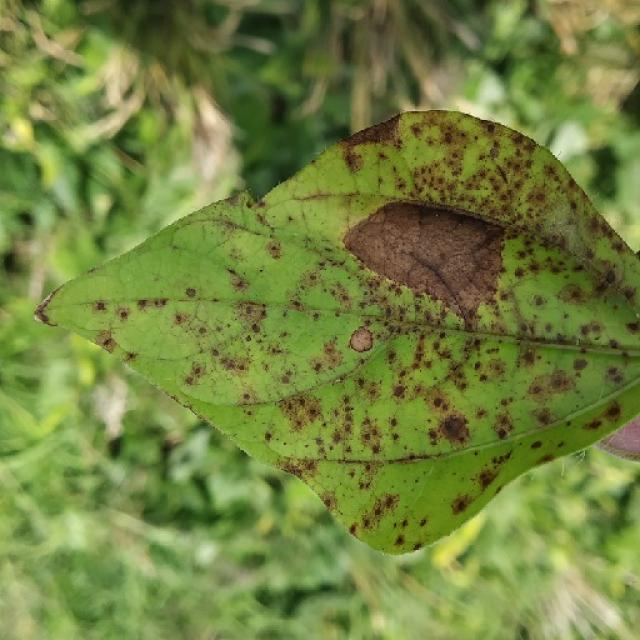Anthracnose: (345, 202, 510, 319), (354, 109, 503, 147), (346, 215, 417, 273), (393, 204, 494, 242), (410, 148, 480, 200), (290, 265, 354, 308), (340, 117, 408, 151), (490, 145, 535, 192), (594, 416, 639, 460), (342, 316, 384, 360), (343, 450, 457, 466), (467, 349, 513, 387), (279, 396, 323, 435), (356, 414, 389, 451), (224, 190, 261, 217), (230, 300, 271, 323), (33, 295, 60, 328), (284, 191, 356, 202), (275, 458, 311, 479), (316, 340, 344, 367), (220, 354, 251, 375), (441, 417, 467, 441), (135, 297, 170, 312), (343, 148, 364, 172), (549, 371, 572, 392), (119, 359, 142, 380), (418, 463, 438, 487), (227, 270, 249, 291), (581, 321, 605, 340), (477, 467, 498, 488), (451, 495, 472, 514), (410, 210, 426, 232), (584, 415, 605, 431), (98, 334, 116, 351), (266, 240, 282, 259), (604, 404, 621, 421), (381, 494, 397, 512), (534, 409, 552, 425), (321, 494, 337, 512), (120, 348, 138, 364), (621, 286, 636, 300), (279, 370, 293, 384), (190, 363, 204, 377), (603, 269, 616, 284), (289, 299, 305, 311), (392, 385, 406, 398), (174, 312, 188, 325), (496, 426, 508, 439), (625, 320, 638, 332), (94, 301, 107, 312), (185, 287, 197, 298), (394, 534, 405, 546), (530, 384, 542, 395), (576, 449, 587, 461), (432, 397, 443, 408), (312, 361, 323, 372), (349, 523, 359, 535), (608, 339, 620, 349), (530, 440, 543, 449), (332, 376, 345, 385), (119, 309, 129, 319), (389, 417, 398, 428), (211, 347, 220, 357), (419, 517, 428, 527), (198, 326, 207, 335), (434, 212, 440, 218), (637, 311, 640, 319)
